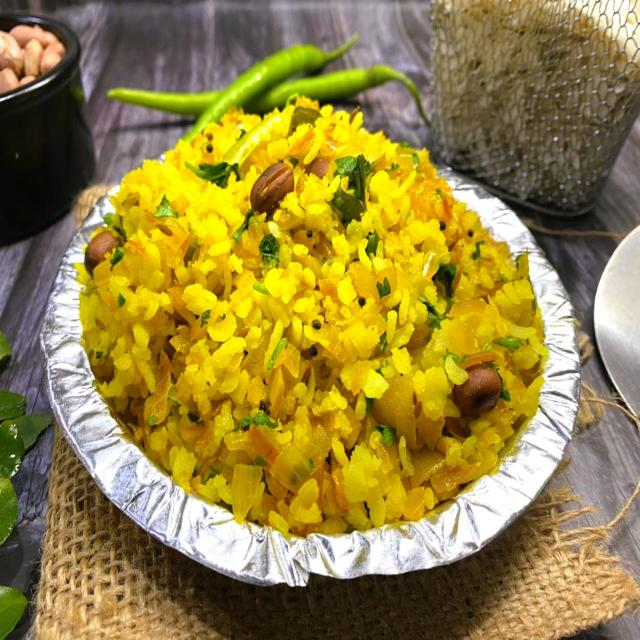POHA: (75, 96, 548, 532)
